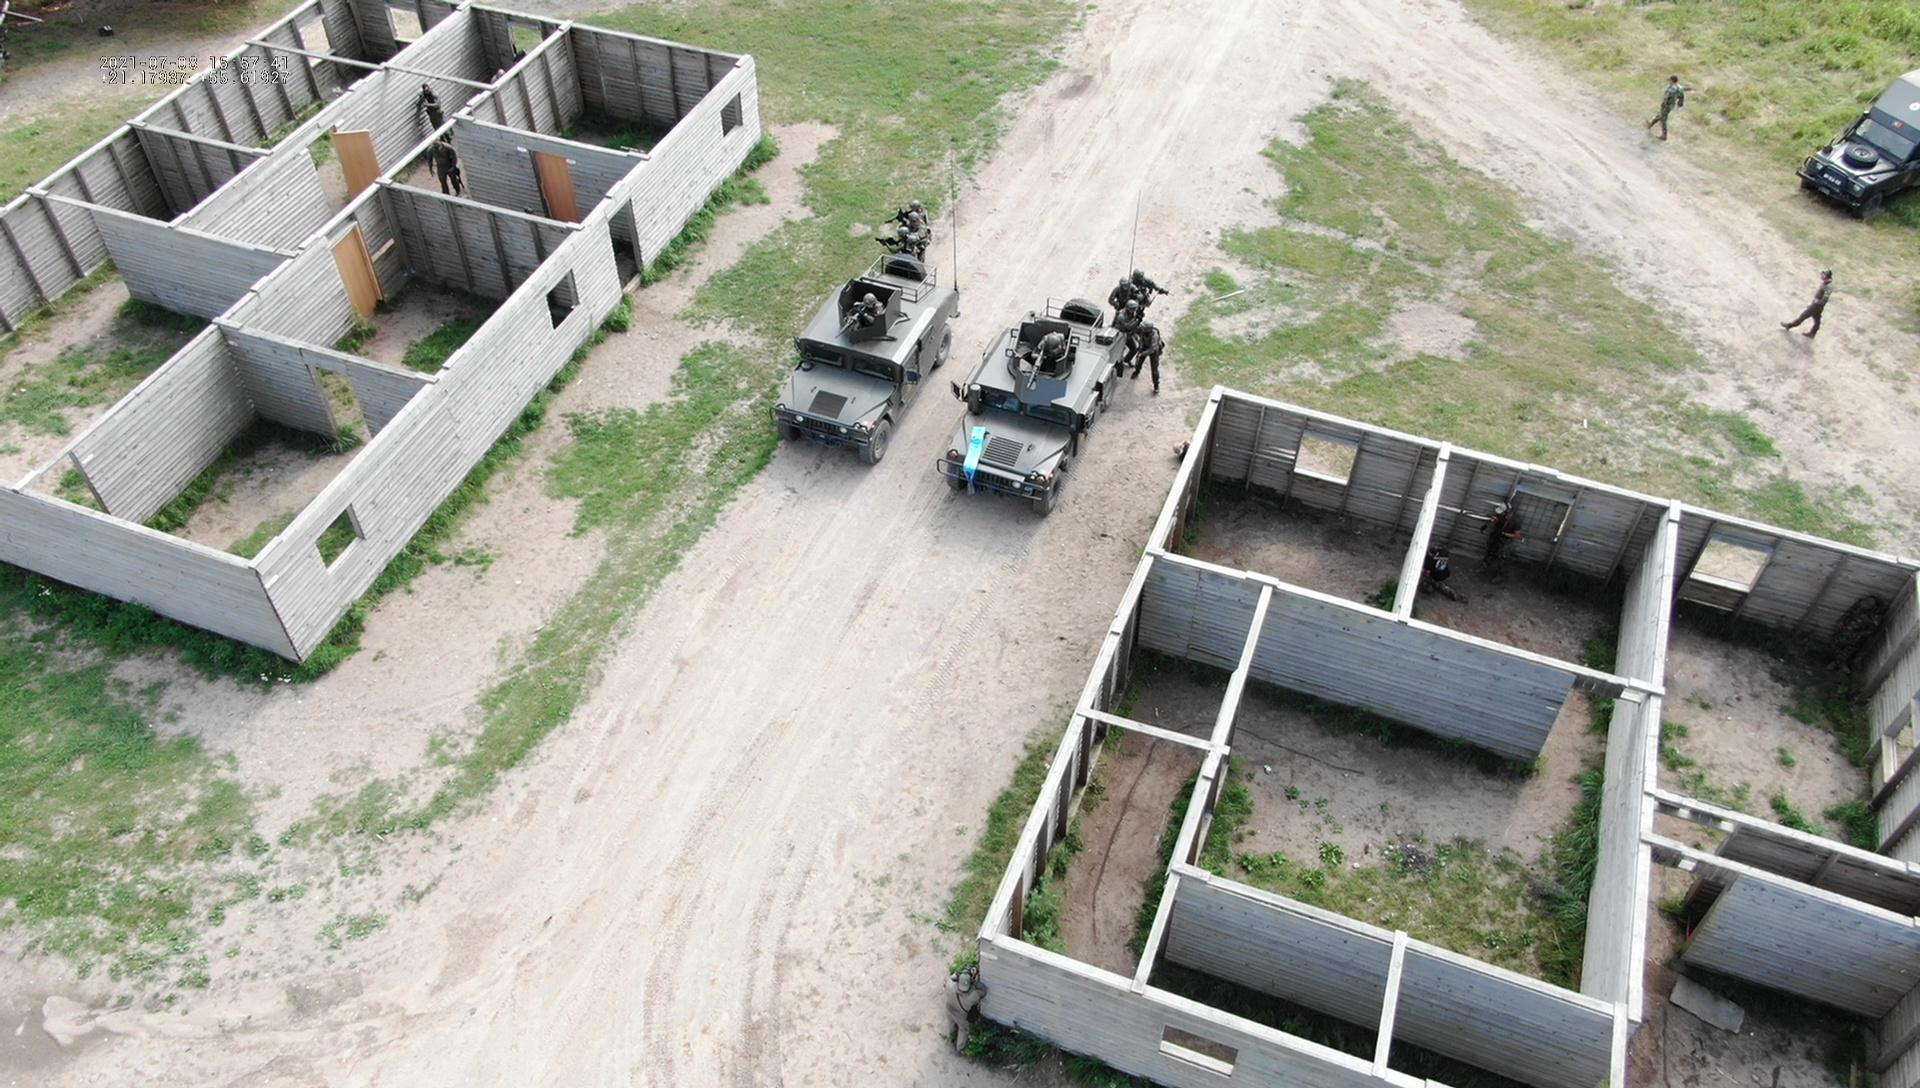Soldier: (1778, 256, 1841, 346), (944, 955, 992, 1056), (1478, 499, 1524, 582), (1644, 67, 1689, 144), (425, 138, 475, 200), (1425, 545, 1468, 612), (1131, 319, 1171, 389), (847, 284, 887, 334), (1033, 324, 1067, 378), (415, 76, 451, 128), (886, 222, 926, 262), (1135, 258, 1168, 302), (899, 193, 932, 235), (1116, 294, 1145, 336), (1112, 270, 1134, 305)
